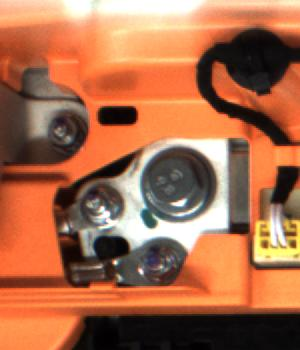nut_b: (138, 137, 221, 228)
screw_s: (134, 240, 180, 284), (78, 180, 115, 226), (44, 110, 80, 155)
